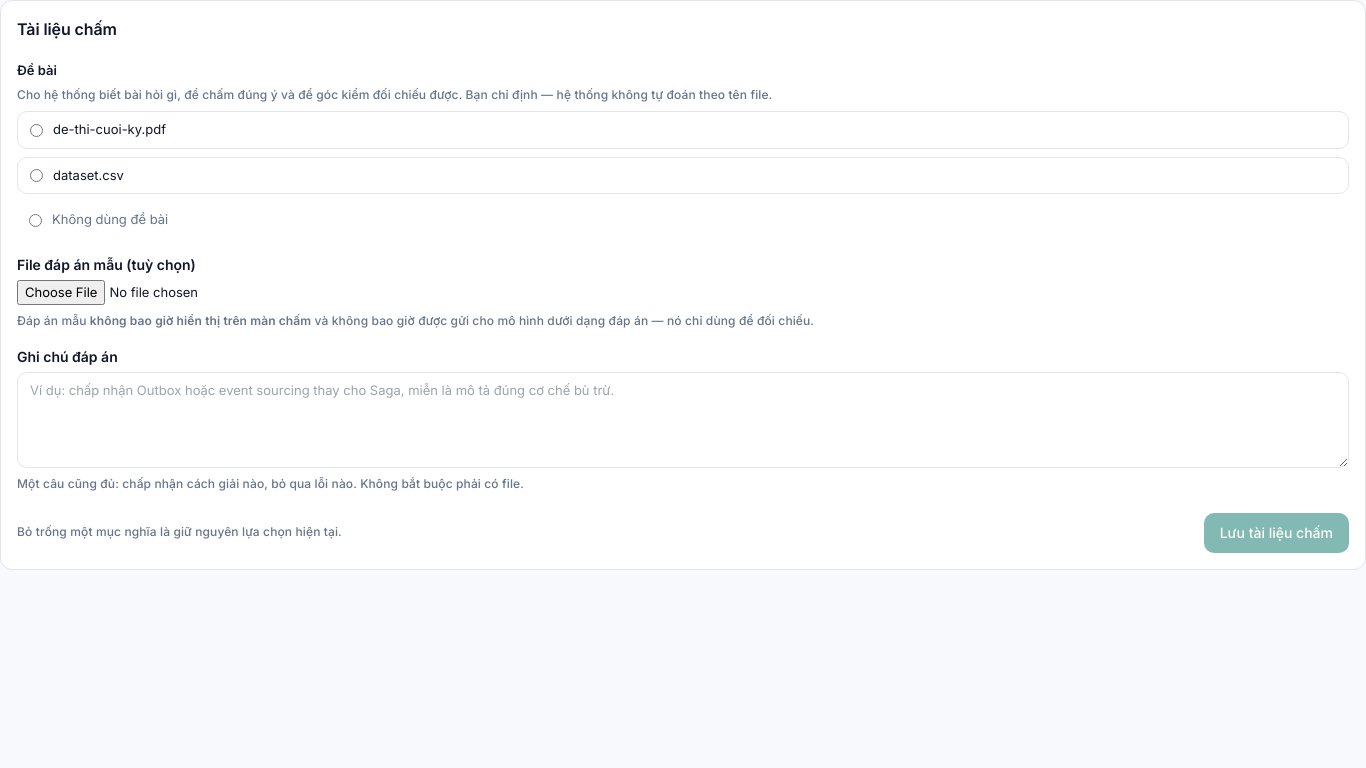
Test: ReferenceForm (spec §3.7 — replaces GradingReferenceDialog, same write rules) › dirty state (Review Focus 2: starting to grade locks the documents) › reports dirty as soon as anything is touched, and clean again after a successful save
This screenshot has width=1366, height=768.
Replace the text in the text box labelled "Ghi chú đáp án" with "x" at (683, 420), box [17,372,1349,468]
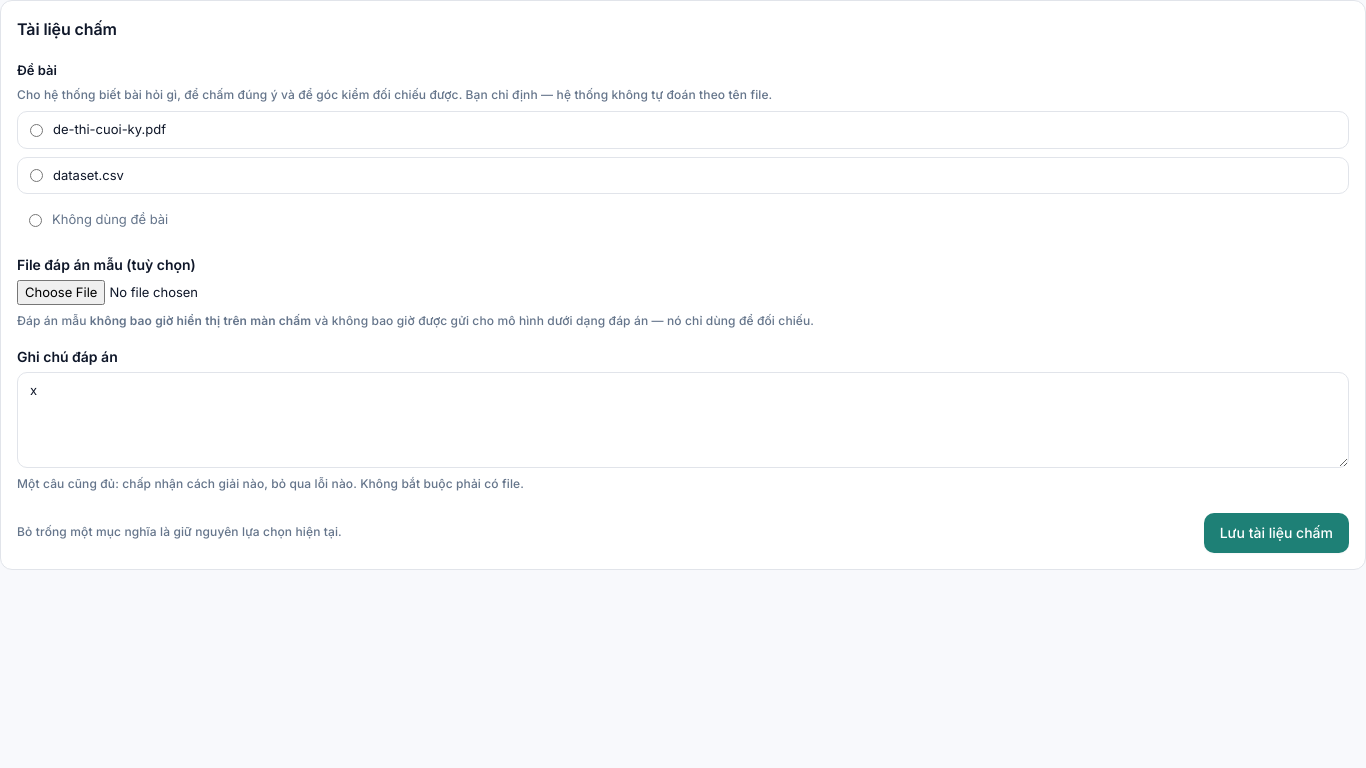
Click the button "Lưu tài liệu chấm" at (1276, 533), box [1204,513,1349,553]
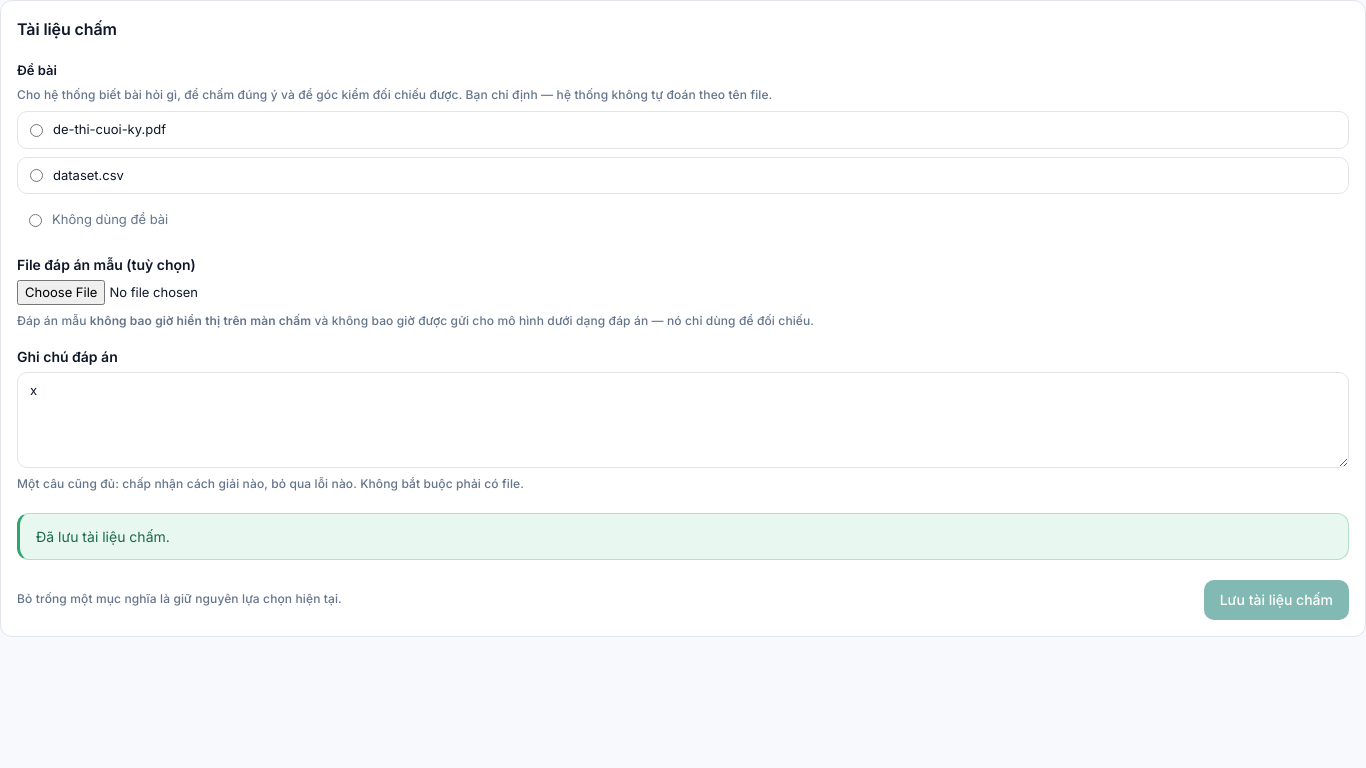
Check: the message shows "Đã lưu", box [36,528,170,545]
